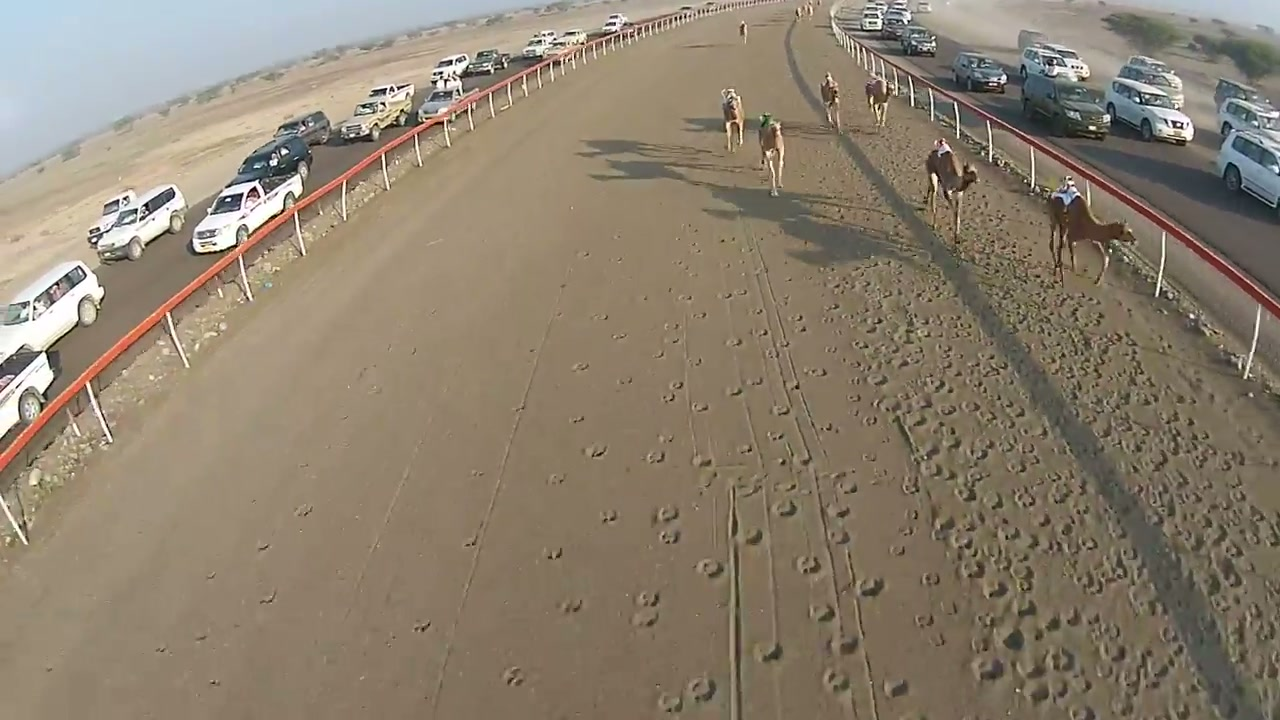animal_foot_print: (458, 155, 1279, 719)
